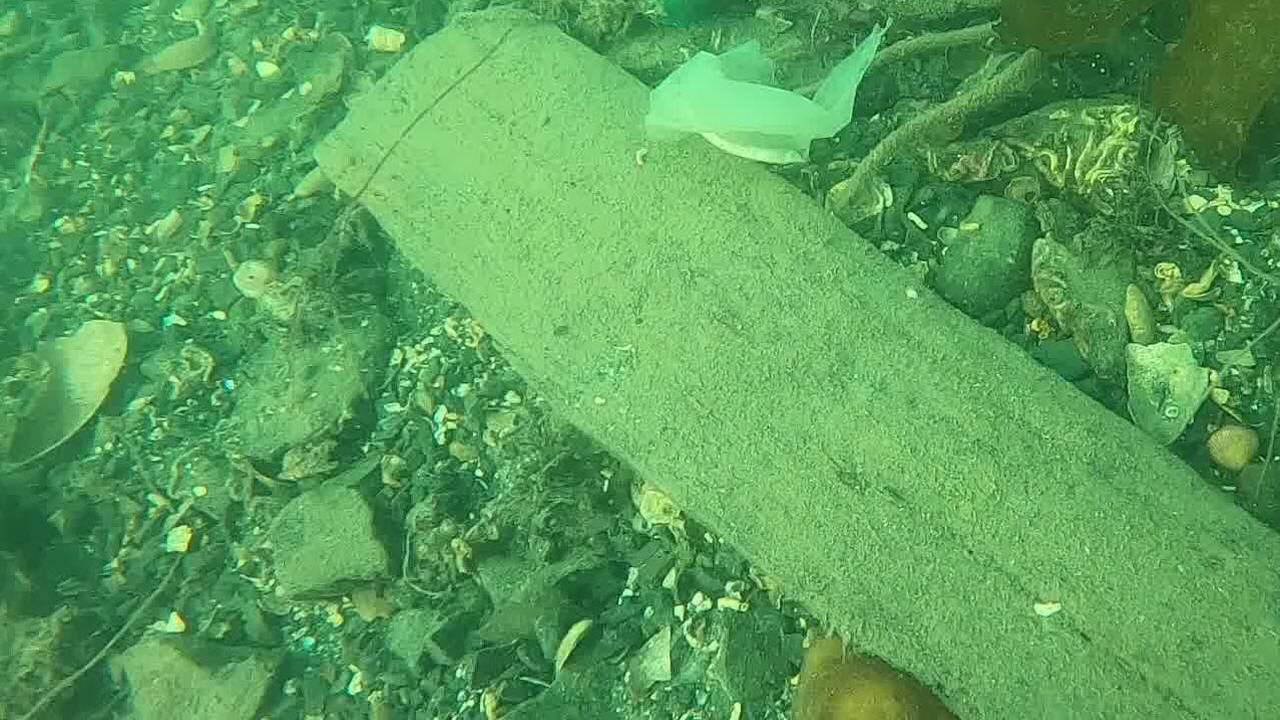wood: (308, 3, 1280, 720)
